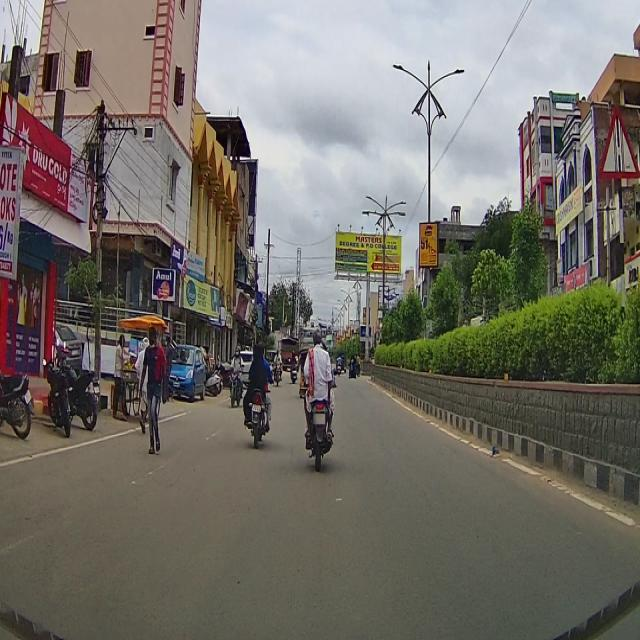gap-in-median: (607, 111, 637, 191)
